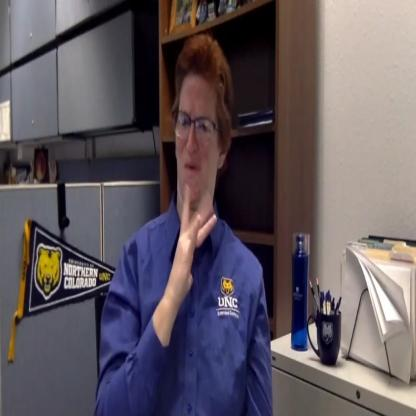Talk: (160, 28, 236, 314)
